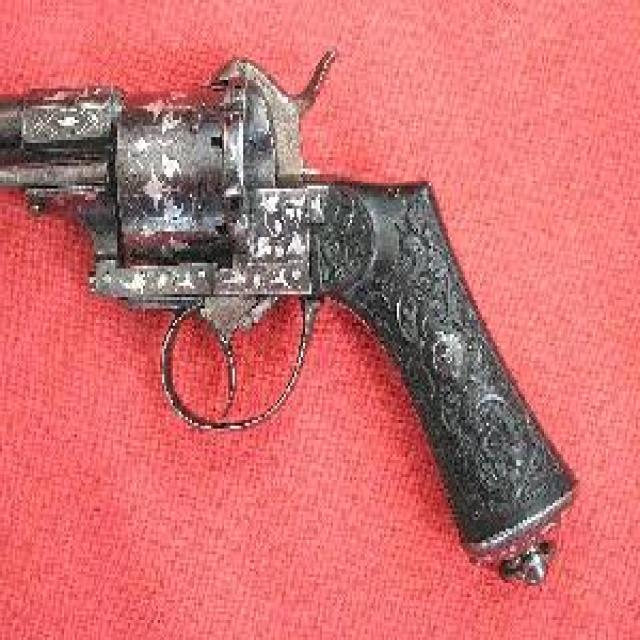pistol: (2, 40, 578, 586)
